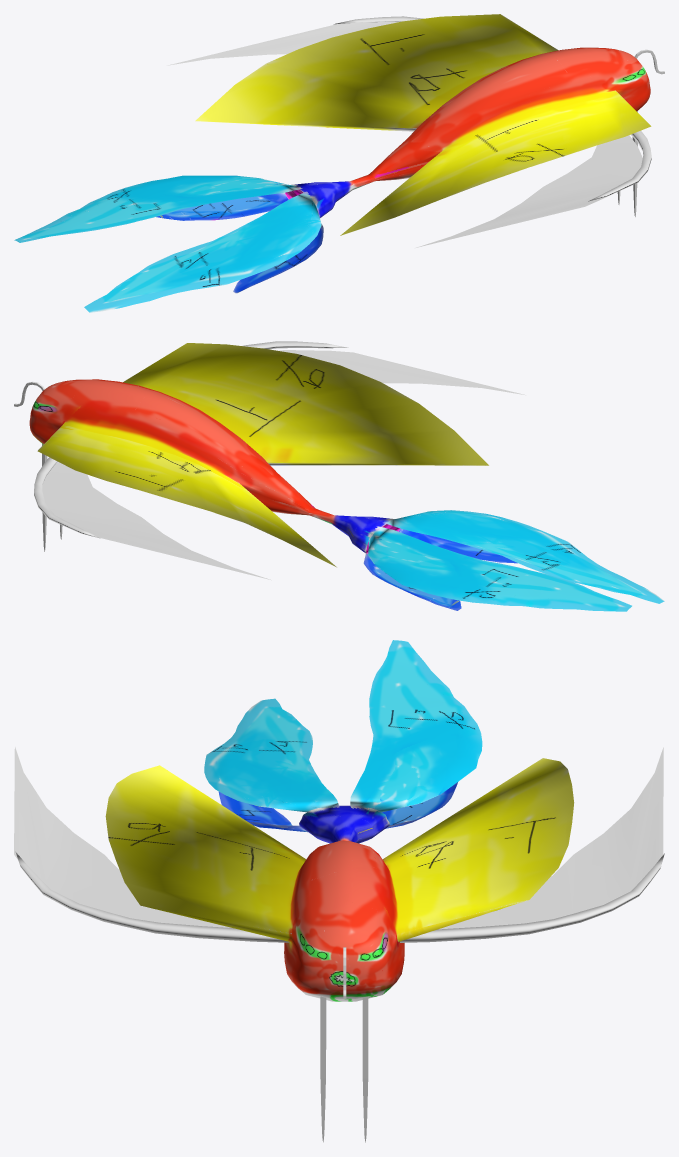
File: BIGFISH3DMAX.FBX
3 views of the same model, one above another, from view 1: azimuth 30°, elevation 25°; view 2: azimuth 150°, elevation 25°; view 3: azimuth 270°, elevation 25° (orthographic). The views are drawn at different scales.
Parts seen in each view (by area): view 1: Plane, Plane.002, Plane.001; view 2: Plane, Plane.002, Plane.001; view 3: Plane, Plane.002, Plane.001, Plane.004.
Part boxes in pixels (bbox=[...]): Plane: bbox=[14, 14, 651, 312]; Plane.002: bbox=[167, 22, 642, 247]; Plane.001: bbox=[333, 16, 651, 201]; Plane: bbox=[29, 343, 664, 611]; Plane.002: bbox=[42, 350, 525, 580]; Plane.001: bbox=[34, 341, 348, 538]; Plane: bbox=[105, 640, 574, 1001]; Plane.002: bbox=[14, 747, 663, 929]; Plane.001: bbox=[15, 851, 664, 942]; Plane.004: bbox=[320, 996, 368, 1142].
Bounding box in the file's own units: 494 × 130 × 342.
1 material, 1 textured.
